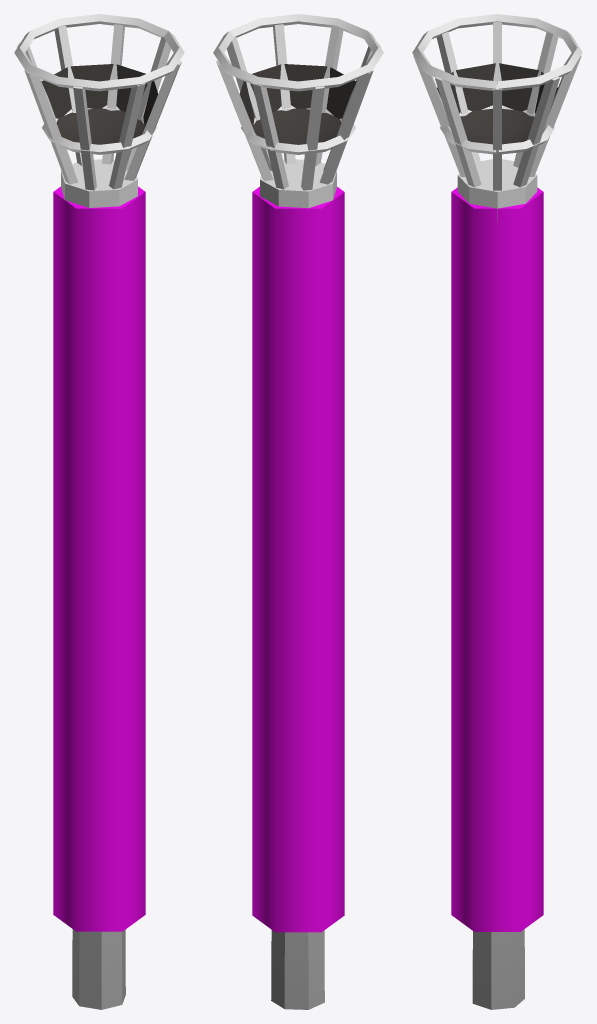
The model's file is torch_post.glb.
The picture shows the model from 3 angles, left to right: view 1: azimuth 30°, elevation 25°; view 2: azimuth 150°, elevation 25°; view 3: azimuth 270°, elevation 25°; orthographic projection.
Visible parts, largest first — view 1: torch_post_hull, torch_post; view 2: torch_post_hull, torch_post; view 3: torch_post_hull, torch_post.
Part boxes in pixels (x1,y1,x2,y2): torch_post_hull: (53, 186, 145, 931); torch_post: (14, 14, 184, 1009); torch_post_hull: (252, 186, 344, 932); torch_post: (213, 14, 383, 1009); torch_post_hull: (451, 187, 543, 931); torch_post: (412, 14, 582, 1009).
Bounding box in the file's own units: 0.5554 × 3.42 × 0.556.
